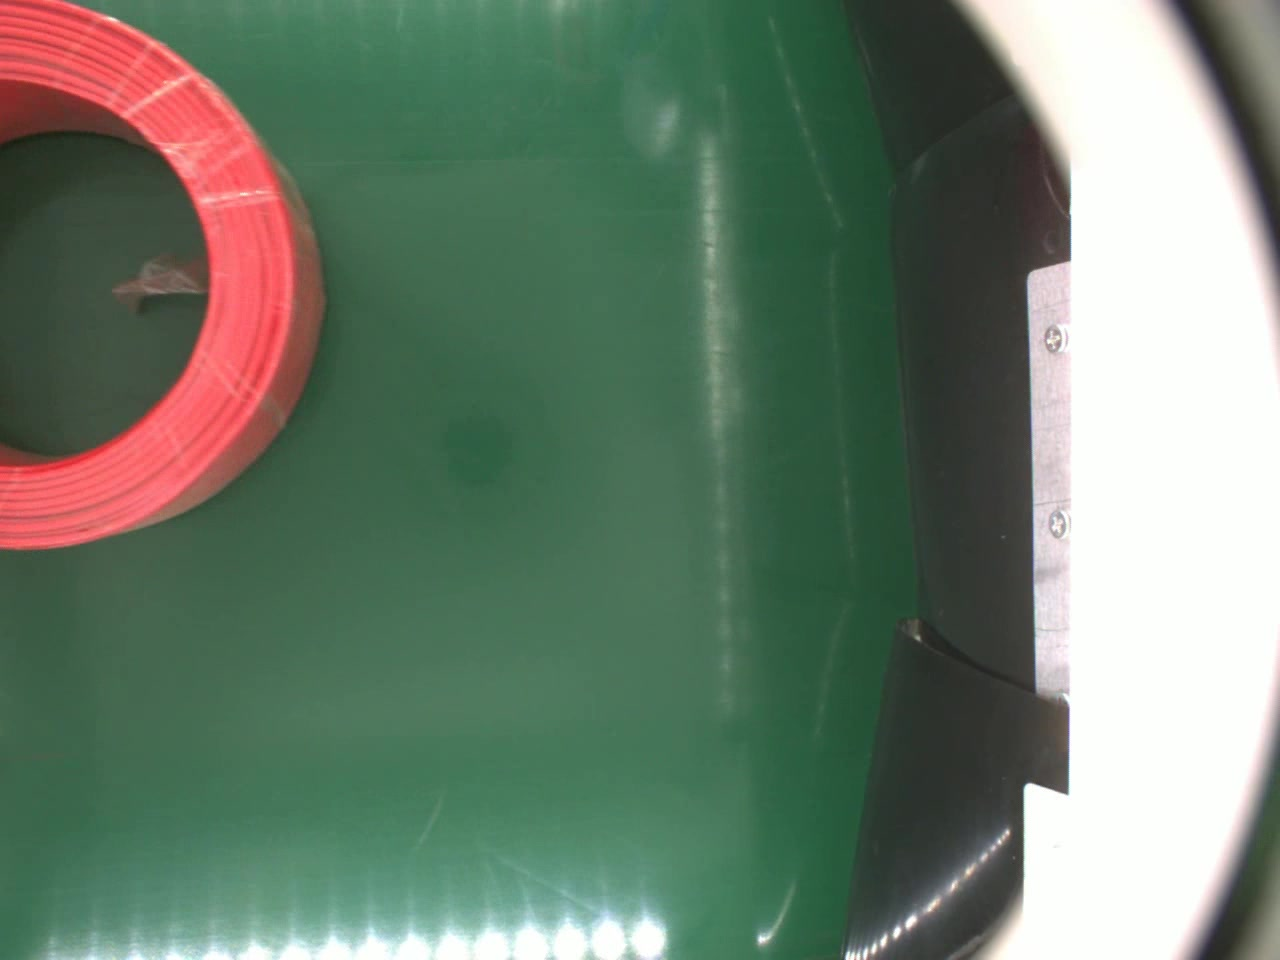red: (0, 0, 326, 551)
